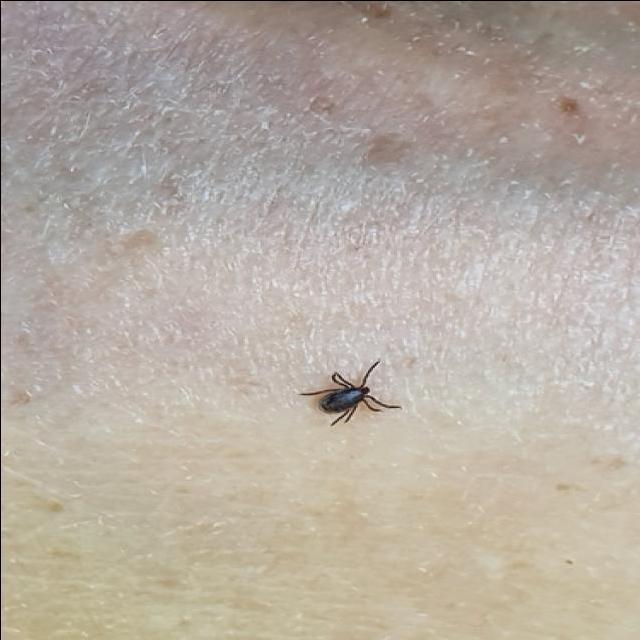Ixodes Ricinus-M: (299, 360, 401, 425)
